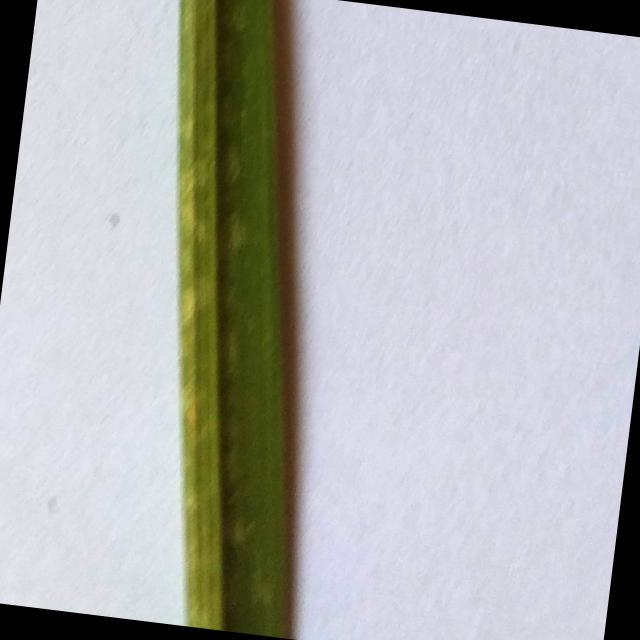Rice_Healthy: (177, 0, 292, 638)
